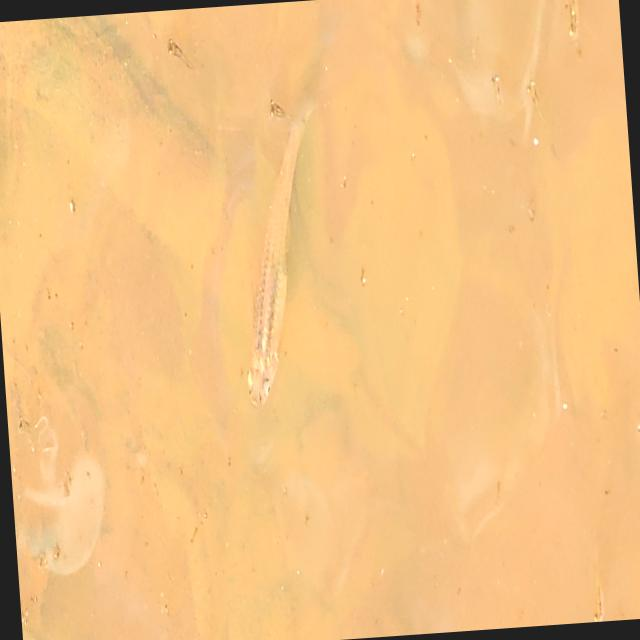Sivrisinek Baligi: (215, 106, 322, 409), (552, 0, 598, 65), (158, 31, 208, 74)
